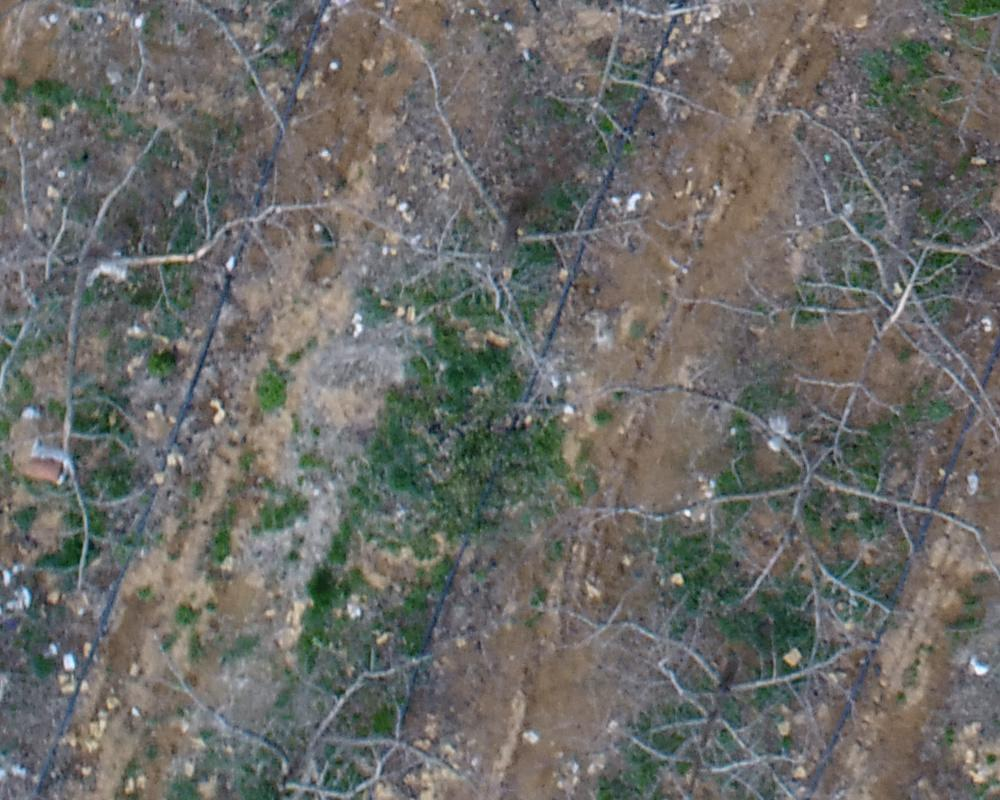apple: (10, 117, 344, 599), (302, 10, 663, 417), (578, 354, 990, 651), (687, 102, 990, 461), (520, 591, 876, 790), (96, 625, 473, 790), (10, 10, 297, 147), (534, 10, 743, 164)
